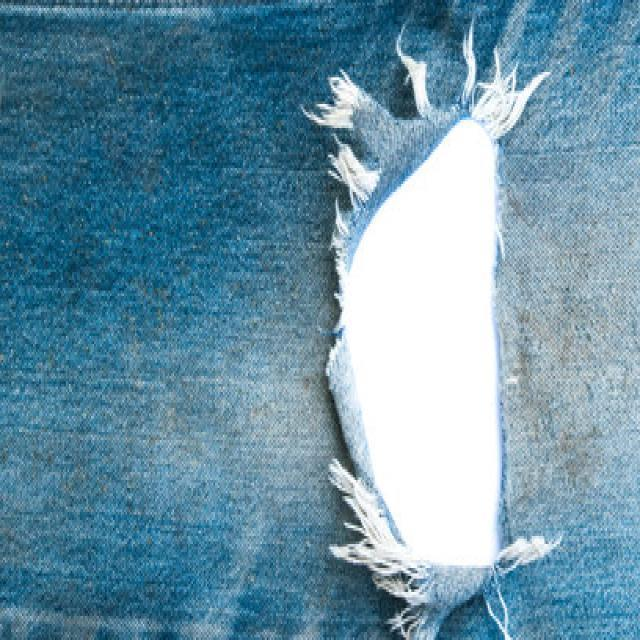Hole: (320, 37, 527, 640)
